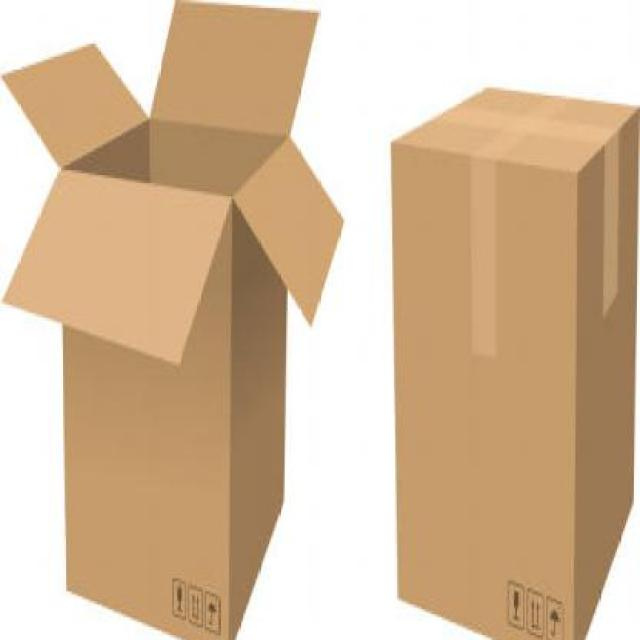box: (0, 0, 345, 640), (371, 71, 638, 640)
